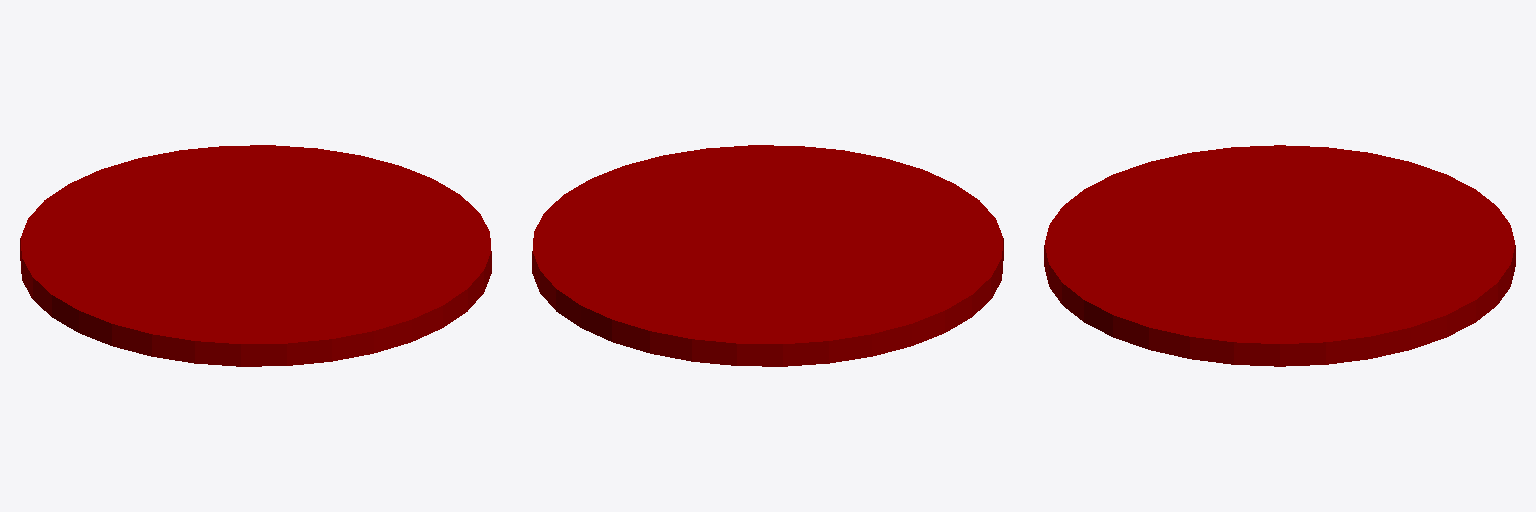
robot.urdf — circle:
<?xml version="1.0"?>
<!-- created with Phobos 1.0.1 "Capricious Choutengan" -->
  <robot name="circle">

    <link name="Untitled">
      <inertial>
        <origin xyz="0 0 0" rpy="0 0 0"/>
        <mass value="0.001"/>
        <inertia ixx="0.001" ixy="0" ixz="0" iyy="0.001" iyz="0" izz="0.001"/>
      </inertial>
      <visual name="Cylinder">
        <origin xyz="0 0 0" rpy="0 0 0"/>
        <geometry>
          <cylinder radius="0.095" length="0.01"/>
        </geometry>
        <material name="Material.003"/>
      </visual>
    </link>

    <material name="Material.003">
      <color rgba="0.64 0 0 1.0"/>
    </material>

  </robot>

--- What the picture shows (computed from the rendered views, not written in the file) ---
3 views of the same robot in one strip: view 1: azimuth 30°, elevation 25°; view 2: azimuth 150°, elevation 25°; view 3: azimuth 270°, elevation 25° (orthographic).
Model circle with 1 links and 0 joints (none), rooted at Untitled, posed all joints at 0.
Visible links, largest first — view 1: Untitled; view 2: Untitled; view 3: Untitled.
Boxes of the visible links, x1,y1,x2,y2 form: Untitled: (20, 145, 491, 366); Untitled: (532, 145, 1003, 366); Untitled: (1044, 145, 1515, 366).
Size in the robot's own frame: 0.19 by 0.19 by 0.01 metres.
Geometry: primitives only (box / cylinder / sphere), no mesh files.